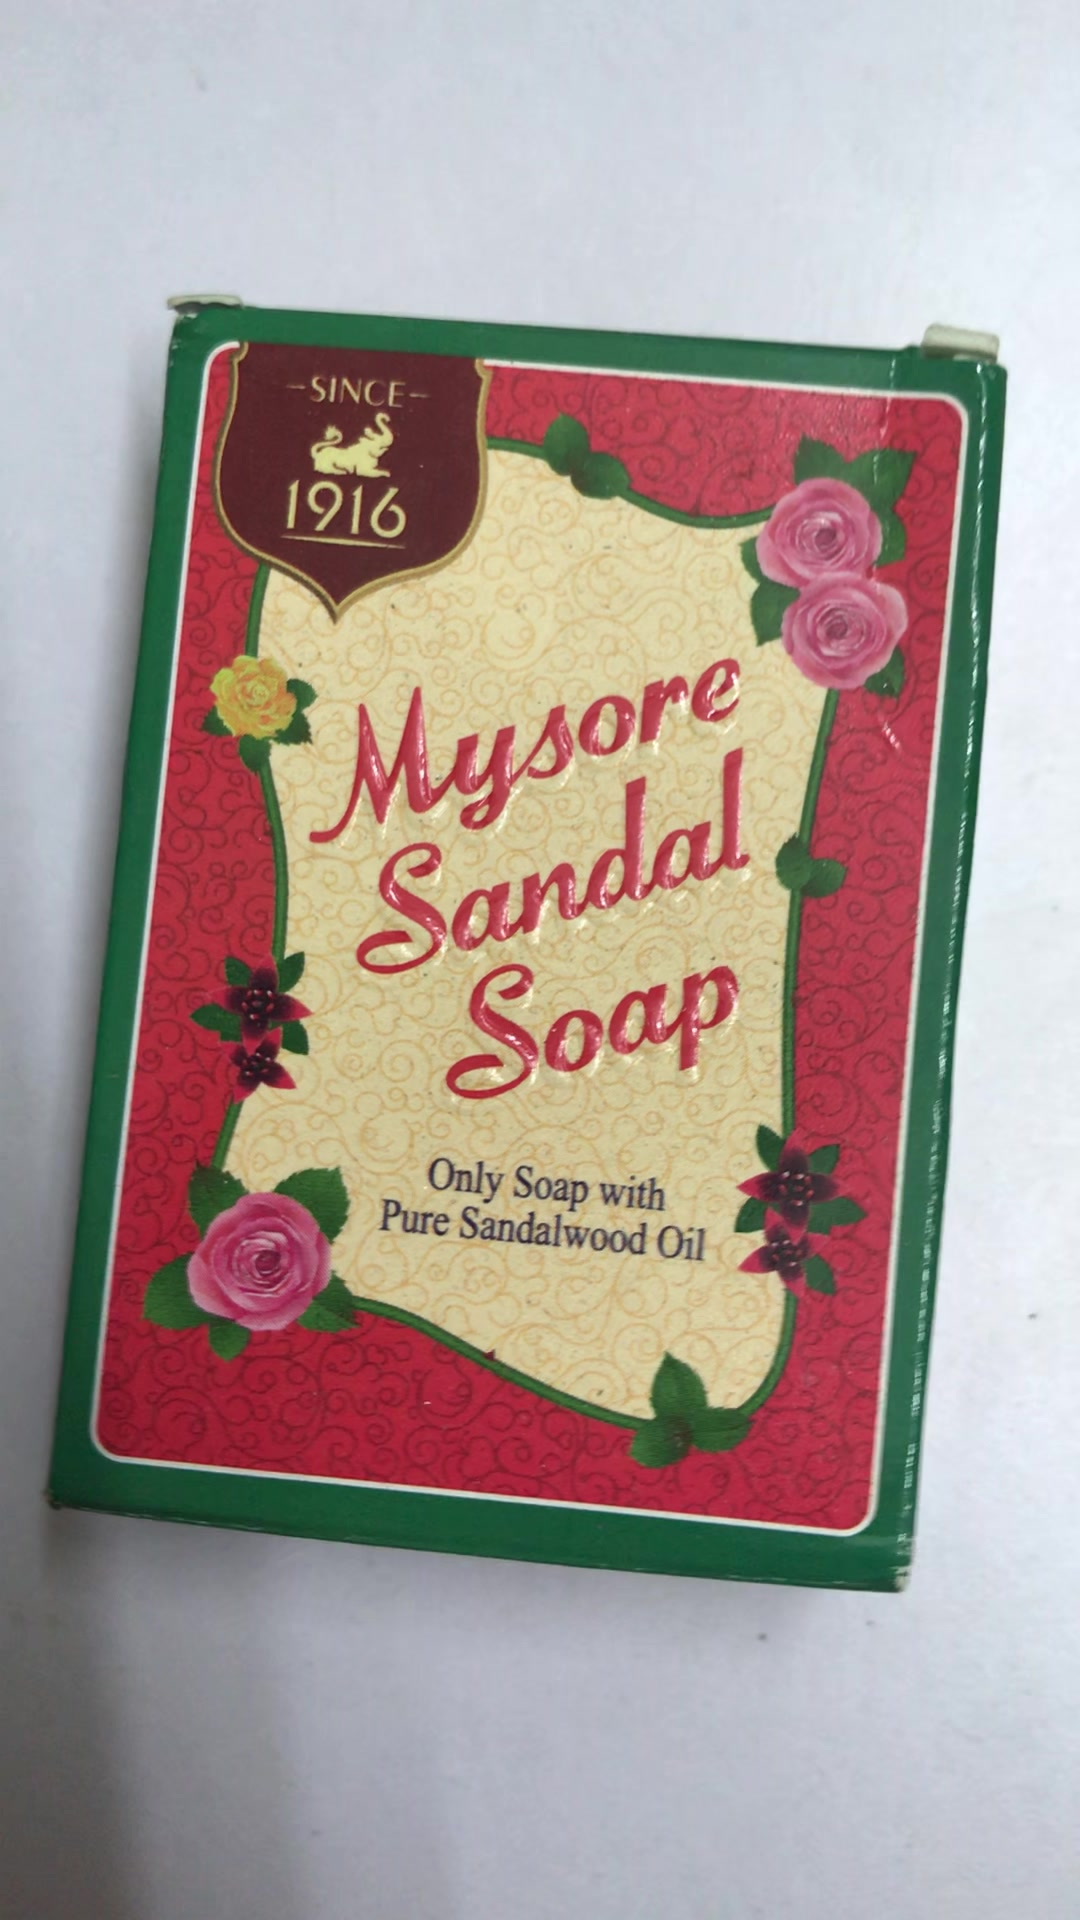mysore sandal soap: (49, 301, 1009, 1598)
